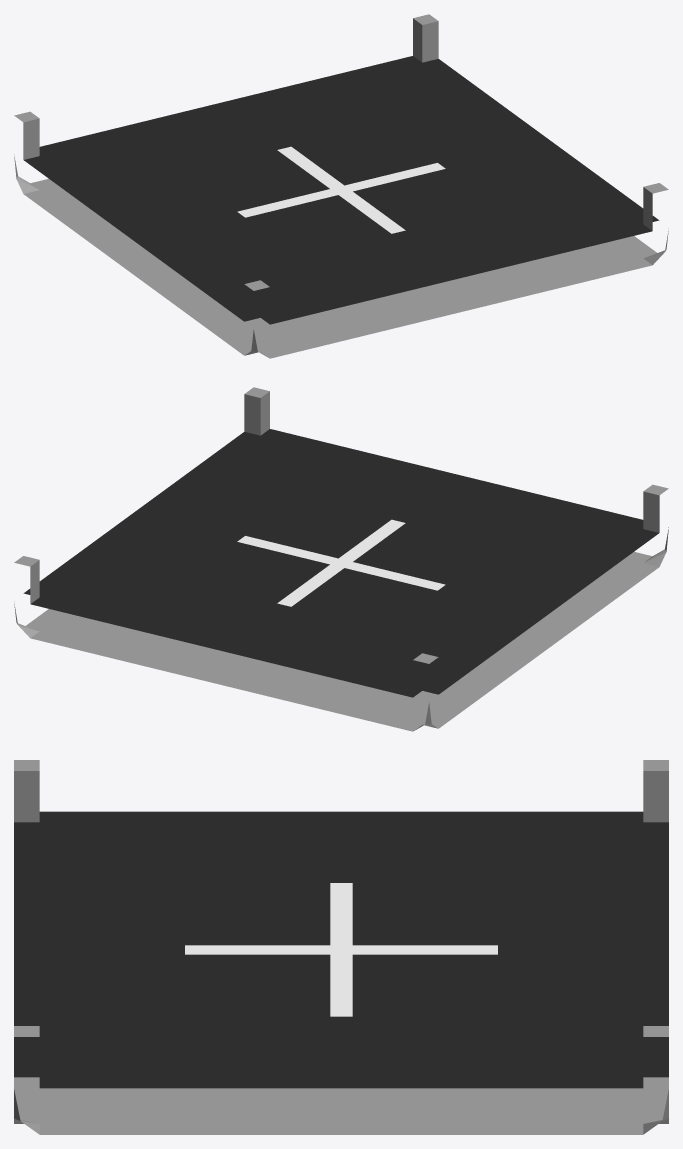
The picture shows the model from 3 angles, top to bottom: view 1: azimuth 30°, elevation 25°; view 2: azimuth 150°, elevation 25°; view 3: azimuth 270°, elevation 25°; orthographic projection. The views are drawn at different scales.
Parts seen in each view (by area): view 1: 1x1+-col; view 2: 1x1+-col; view 3: 1x1+-col.
Part boxes in pixels (x1,y1,x2,y2): 1x1+-col: [14, 14, 668, 358]; 1x1+-col: [14, 387, 668, 731]; 1x1+-col: [14, 760, 668, 1134].
Bounding box in the file's own units: 20 × 3.3 × 20.
Materials: 1 (1 with a texture image).
